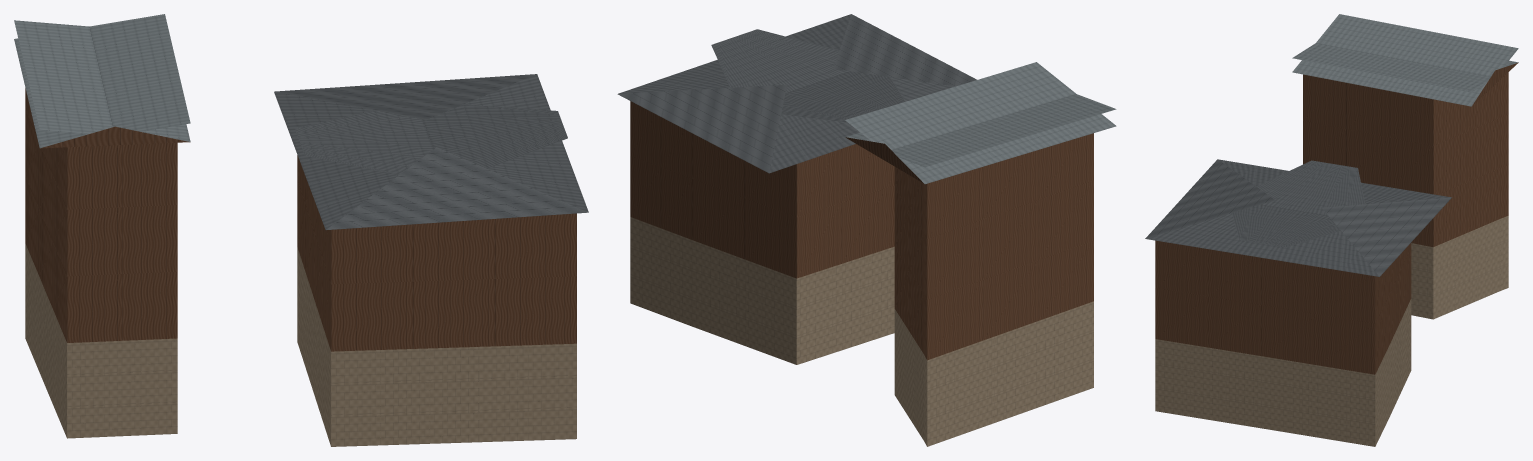
The model's file is bld_c9_10_496.gltf.
3 views of the same model, side by side, from view 1: azimuth 30°, elevation 25°; view 2: azimuth 150°, elevation 25°; view 3: azimuth 270°, elevation 25° (orthographic). The views are drawn at different scales.
Parts seen in each view (by area): view 1: bld_c9_10_496; view 2: bld_c9_10_496; view 3: bld_c9_10_496.
Boxes of the visible parts, x1,y1,x2,y2 form: bld_c9_10_496: [14, 14, 588, 446]; bld_c9_10_496: [617, 14, 1116, 446]; bld_c9_10_496: [1145, 14, 1518, 446].
Bounding box in the file's own units: 29.32 × 17.2 × 23.92.
5 materials, 5 textured.
